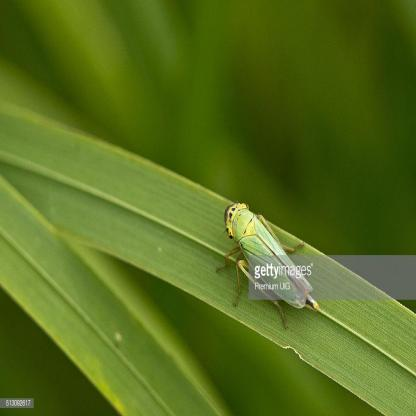Green-Leafhopper: (218, 203, 322, 328)
